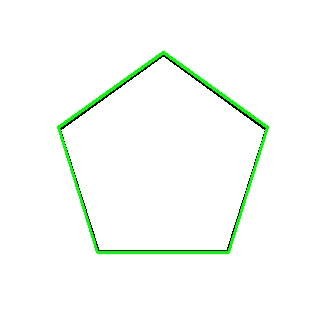line_segment: (57, 52, 269, 254)
